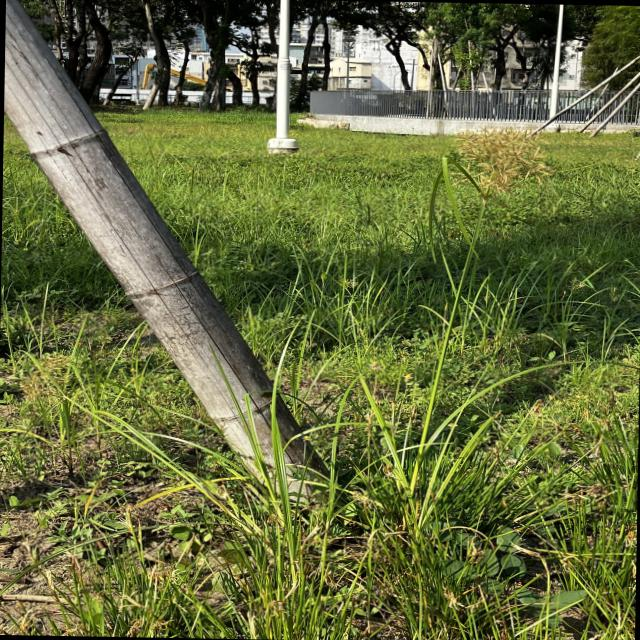cyperus: (451, 122, 558, 198), (18, 351, 73, 404), (338, 274, 359, 292), (568, 276, 588, 294)
